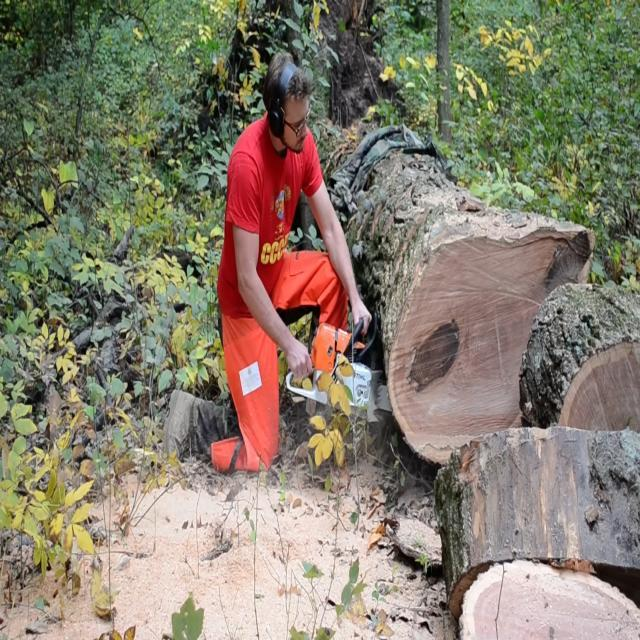Chainsaw: (262, 296, 398, 424)
